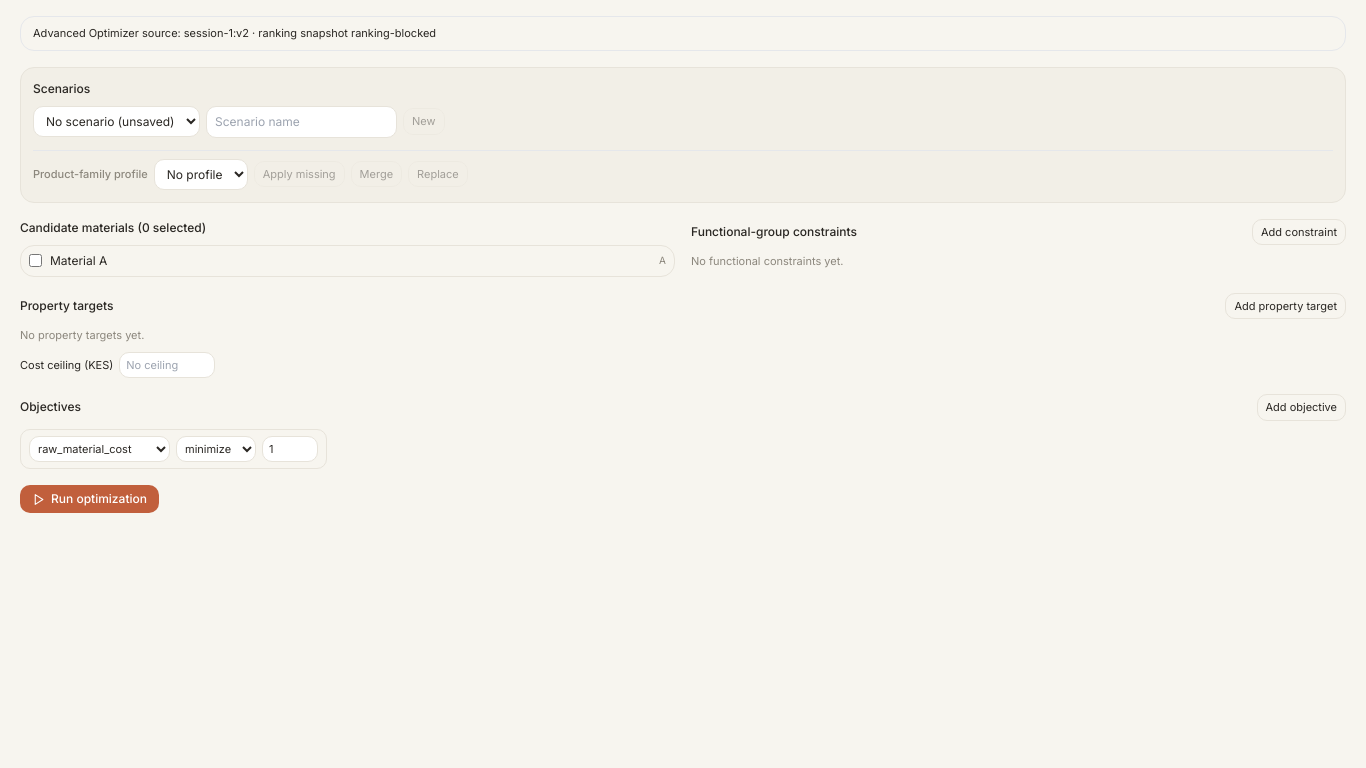
Test: AdvancedOptimizerPanel — run and result rendering › refuses a persisted Safety BLOCKED ranking before invoking the solver
Expected: the text "Material A" is shown, x1=50 y1=252 x2=107 y2=270
Click the checkbox labelled "Material A A" at [36, 260], box x1=29 y1=254 x2=42 y2=267
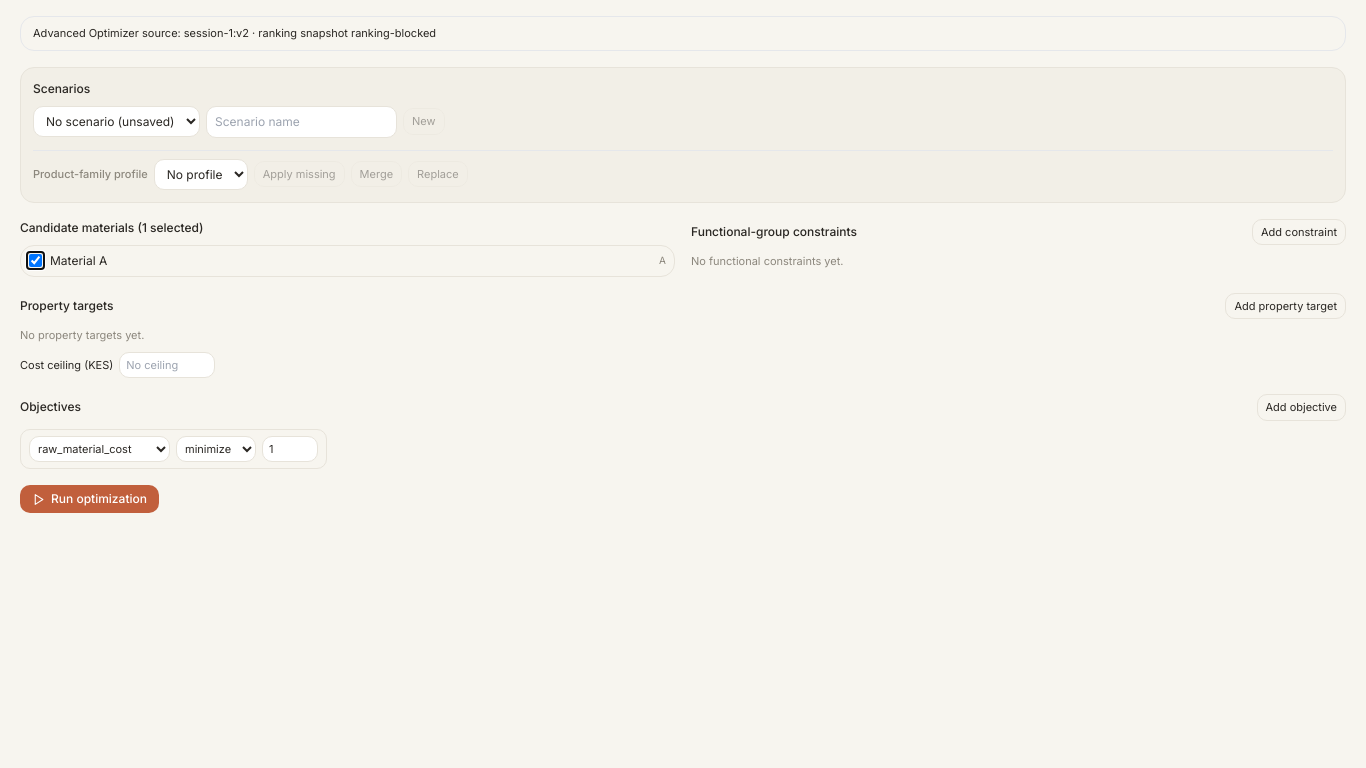
Click the button "Run optimization" at [90, 499], box x1=20 y1=485 x2=159 y2=513
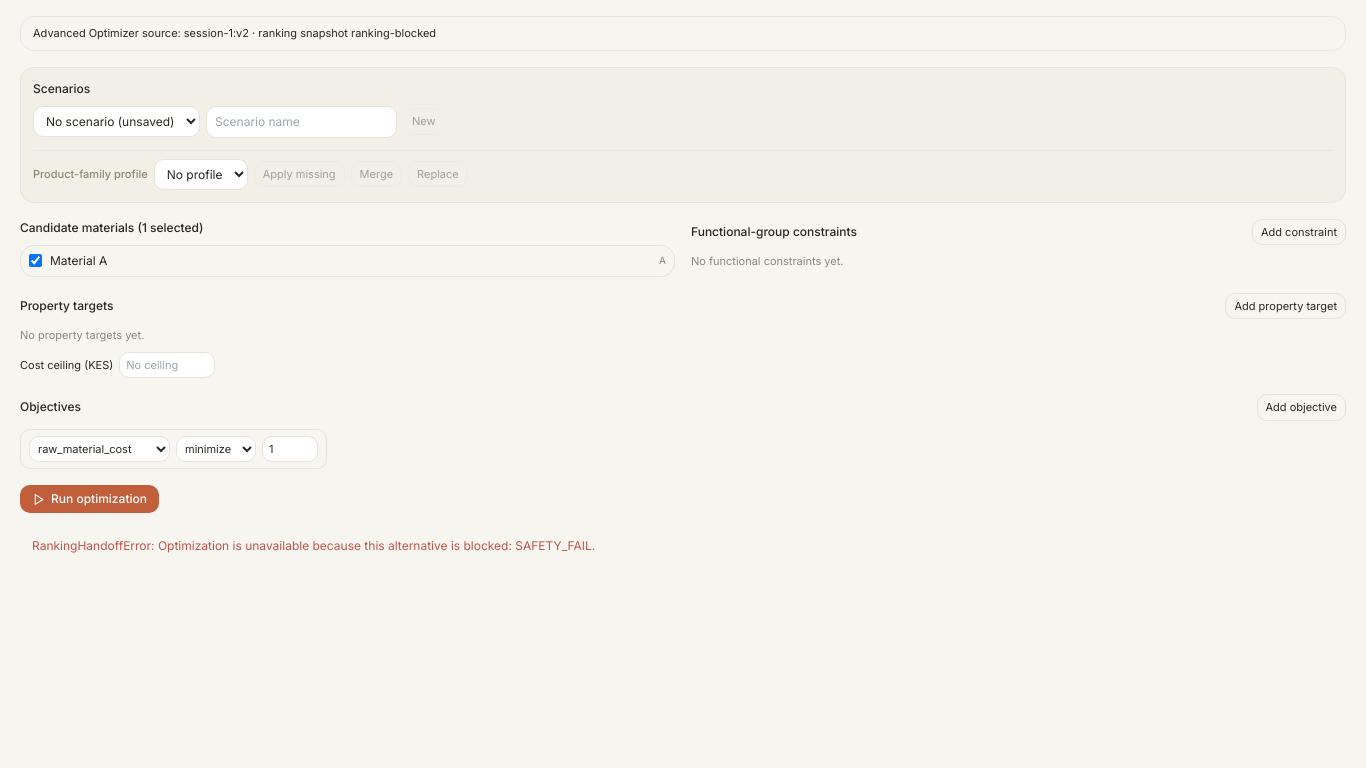
Expected: the 2nd message shows "blocked", x1=32 y1=538 x2=595 y2=553
